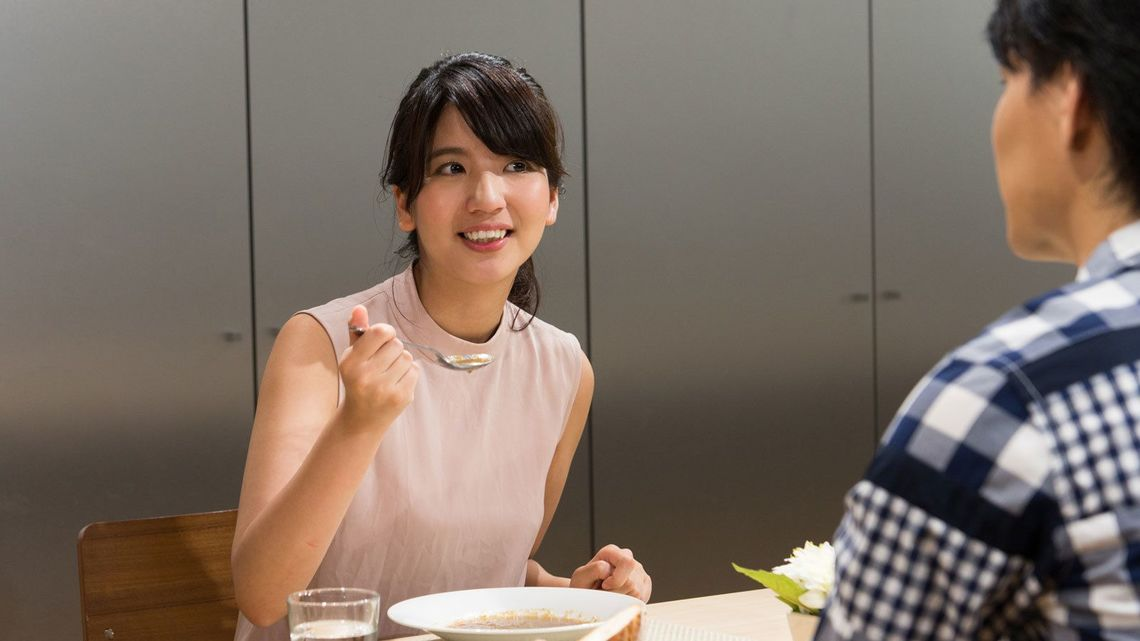face: (395, 99, 561, 285)
hand: (343, 304, 421, 423), (570, 540, 653, 602)
